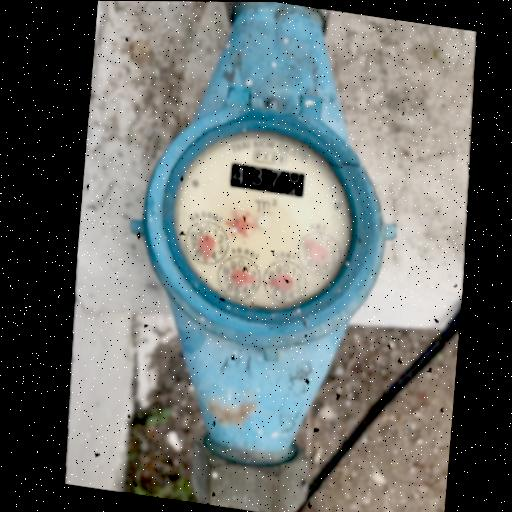0: (284, 172, 307, 197)
3: (248, 166, 269, 191)
4: (228, 164, 251, 189)
7: (265, 169, 287, 194)
border_water_meter_number: (228, 163, 307, 198)
